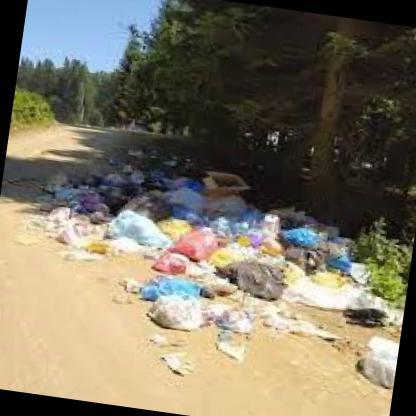Garbage: (43, 160, 356, 361), (151, 272, 300, 362), (16, 189, 132, 270), (100, 148, 200, 219), (118, 180, 219, 236), (246, 213, 322, 261), (229, 252, 293, 306), (116, 216, 164, 282), (357, 336, 397, 396)
